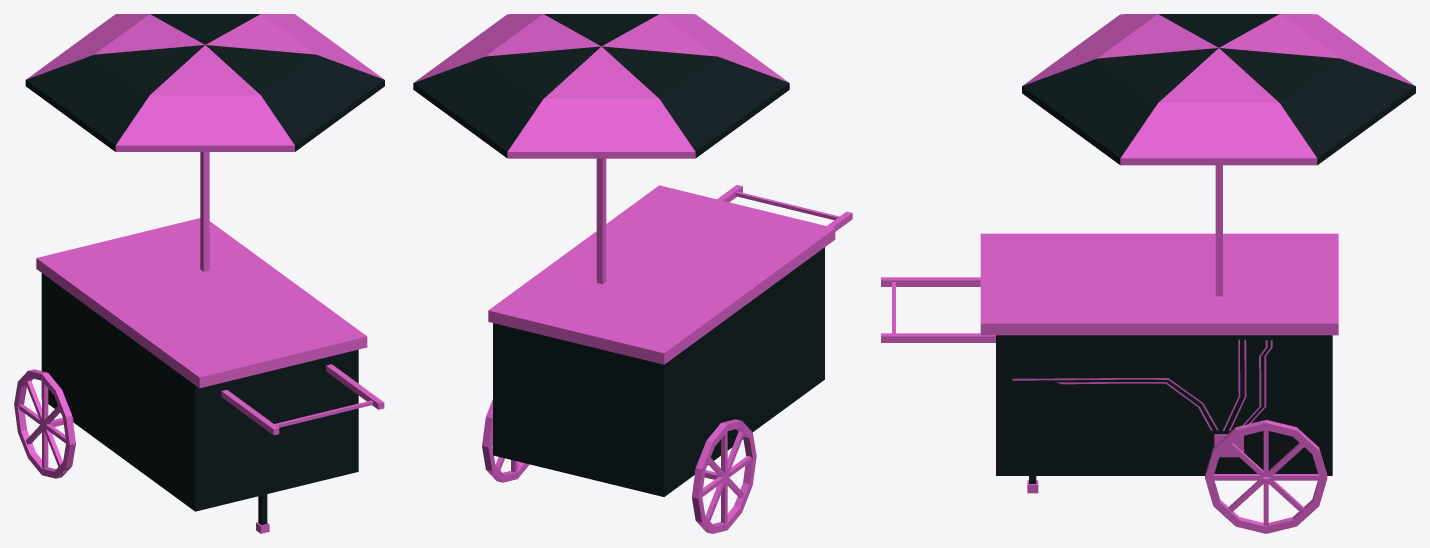
File: Obstacle2.fbx
The picture shows the model from 3 angles, left to right: view 1: azimuth 30°, elevation 25°; view 2: azimuth 150°, elevation 25°; view 3: azimuth 270°, elevation 25°; orthographic projection. The views are drawn at different scales.
Visible parts, largest first — view 1: Sphere, Cube.028, Cube.032, Sphere.001, Cube.030, Cube.036, Cube.034, Cube.033, Cube.035; view 2: Cube.028, Sphere, Cube.032, Sphere.001, Cube.030, Cube.036, Cube.024, Cube.035; view 3: Sphere, Cube.028, Cube.032, Sphere.001, Cube.024, base .001, Cube.033, Cube.036, Cube.034.
Part boxes in pixels (x1,y1,x2,y2): Sphere: (25,14,384,151); Cube.028: (41,273,358,511); Cube.032: (36,218,367,388); Sphere.001: (34,14,379,151); Cube.030: (14,369,75,478); Cube.036: (200,152,209,271); Cube.034: (221,390,279,435); Cube.033: (326,364,384,409); Cube.035: (274,400,373,427); Cube.028: (493,247,824,496); Sphere: (413,14,789,158); Cube.032: (488,185,835,364); Sphere.001: (421,14,779,158); Cube.030: (692,419,756,533); Cube.036: (596,158,606,284); Cube.024: (482,399,529,482); Cube.035: (735,191,839,220); Sphere: (1022,14,1415,165); Cube.028: (996,335,1332,475); Cube.032: (980,233,1338,335); Sphere.001: (1043,14,1411,165); Cube.024: (1205,420,1327,533); base .001: (1012,339,1272,430); Cube.033: (881,333,995,342); Cube.036: (1215,165,1222,296); Cube.034: (881,277,980,286).
Bounding box in the file's own units: 572 × 826 × 874.
